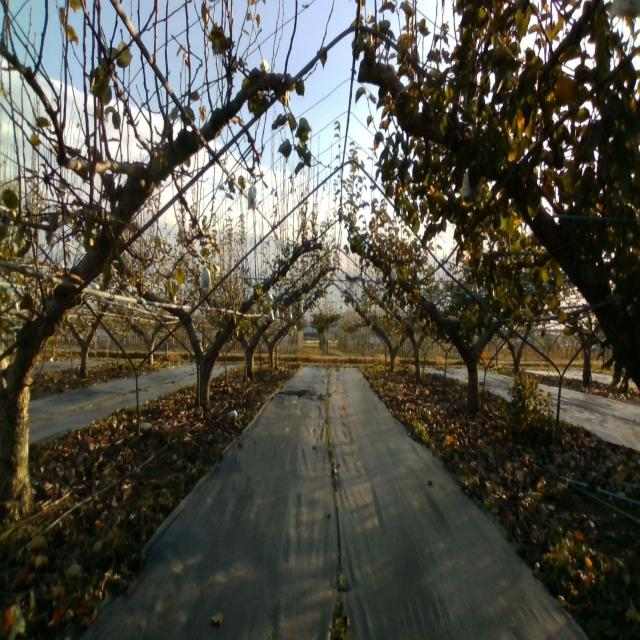pearbags: (200, 262, 212, 290), (247, 184, 258, 210)
